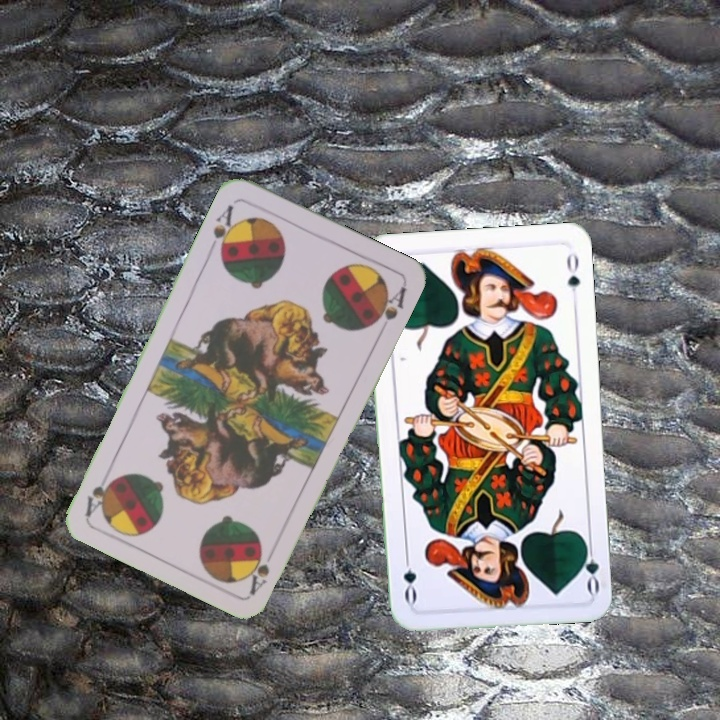GO: (576, 536, 602, 596)
SA: (205, 200, 240, 258), (245, 541, 279, 597)
